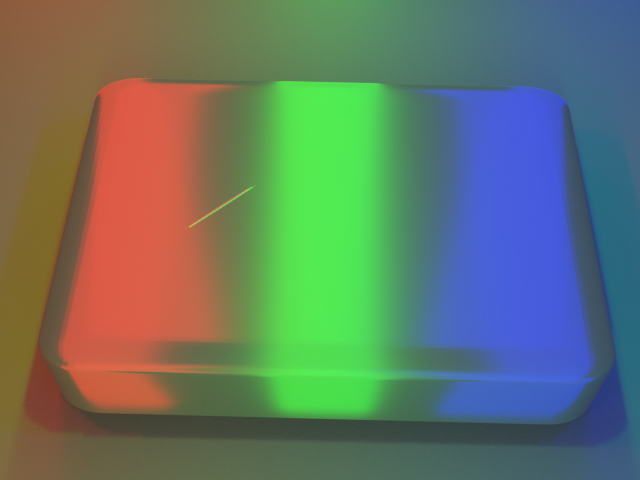scratch: (73, 132, 342, 283)
